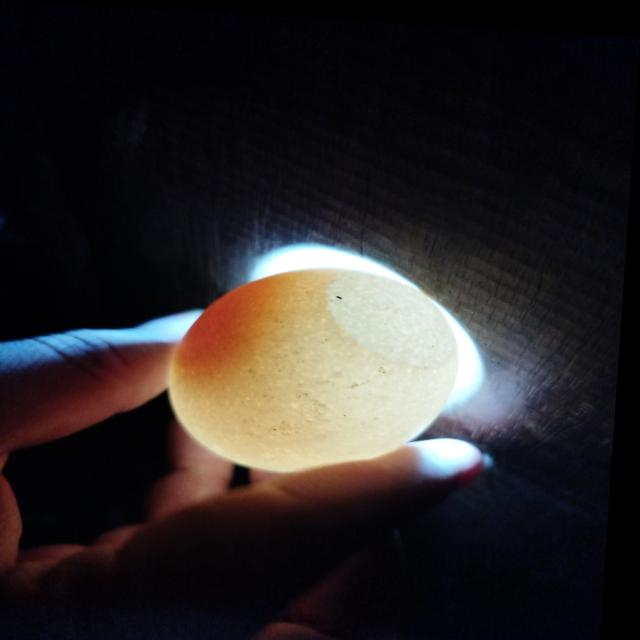Camara de Ar: (330, 268, 463, 361)
Gema Quebrada: (180, 266, 299, 388)
